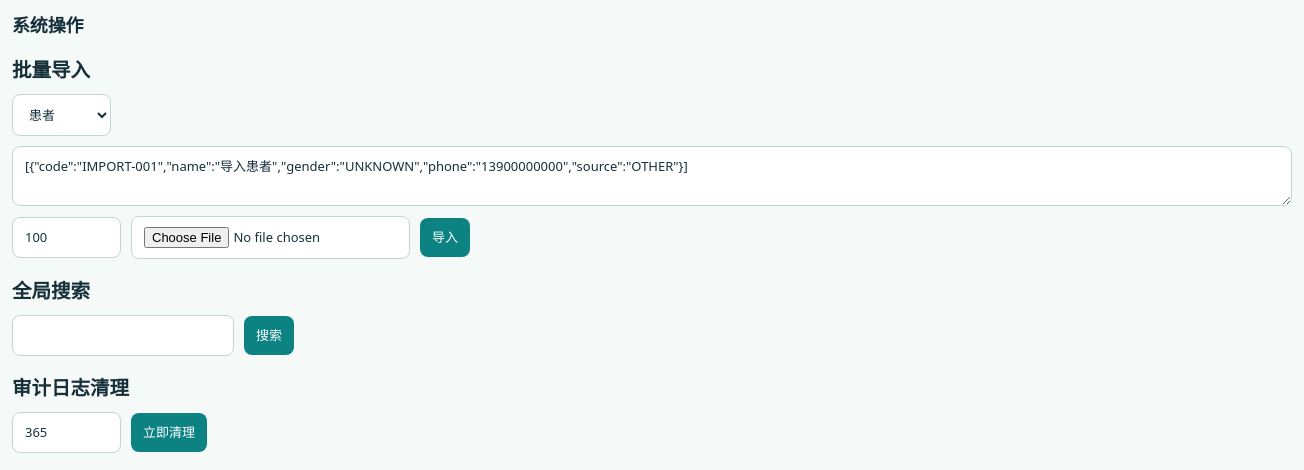
Test: SystemOperationsPage › validates the audit retention window and reports cleanup failures
Replace the text in the number field named "日志保留天数" with "10". click: x=66, y=433
box: left=12, top=412, right=121, bottom=453
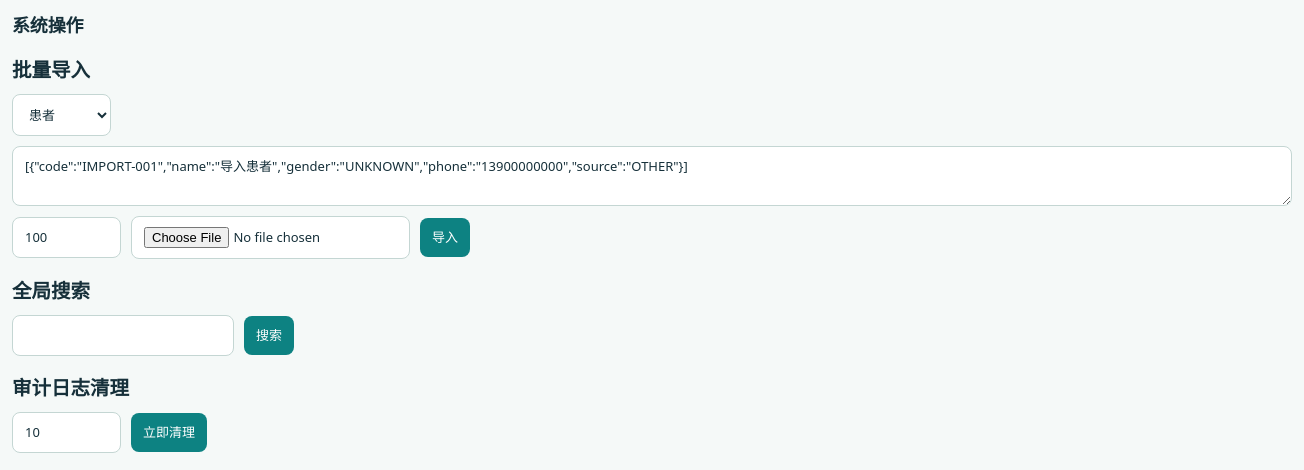
Click the button "立即清理". click: x=169, y=433
box: left=131, top=413, right=207, bottom=452
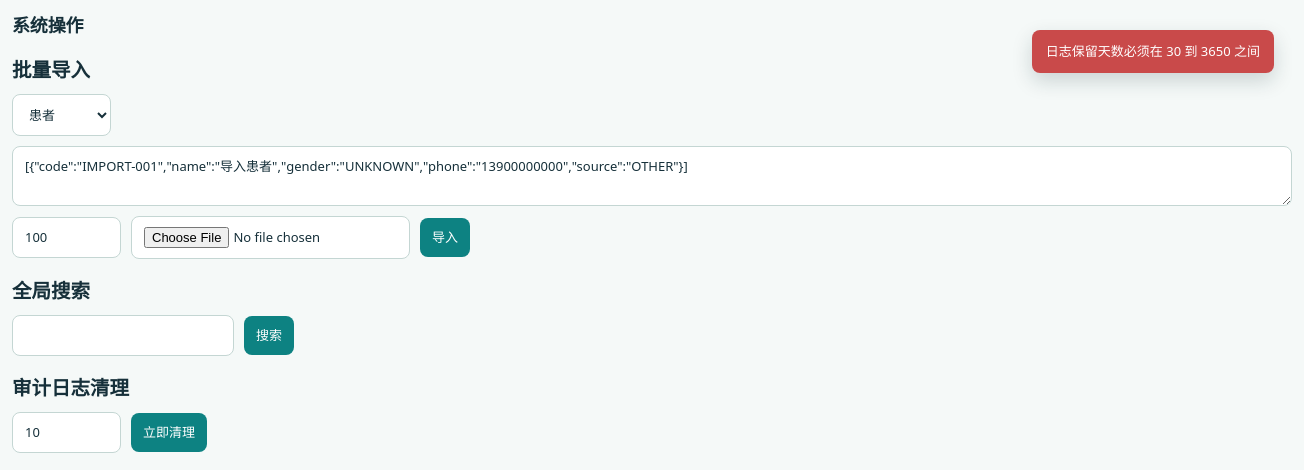
Result: the text "日志保留天数必须在 30 到 3650 之间" is shown at left=1032, top=30, right=1274, bottom=73
Replace the text in the number field named "日志保留天数" with "30". click: x=66, y=433
box: left=12, top=412, right=121, bottom=453
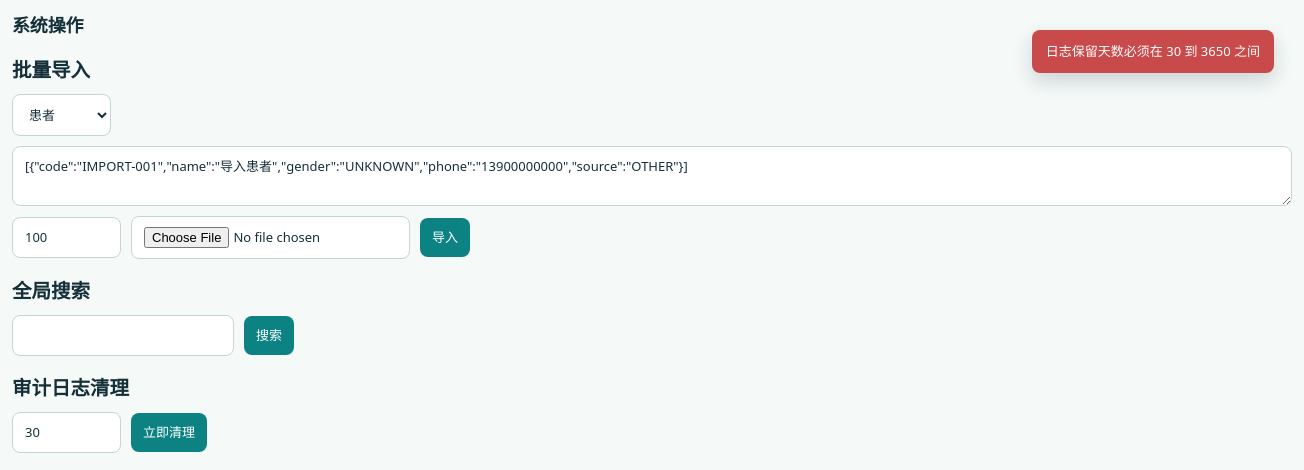
Click the button "立即清理". click: x=169, y=433
box: left=131, top=413, right=207, bottom=452
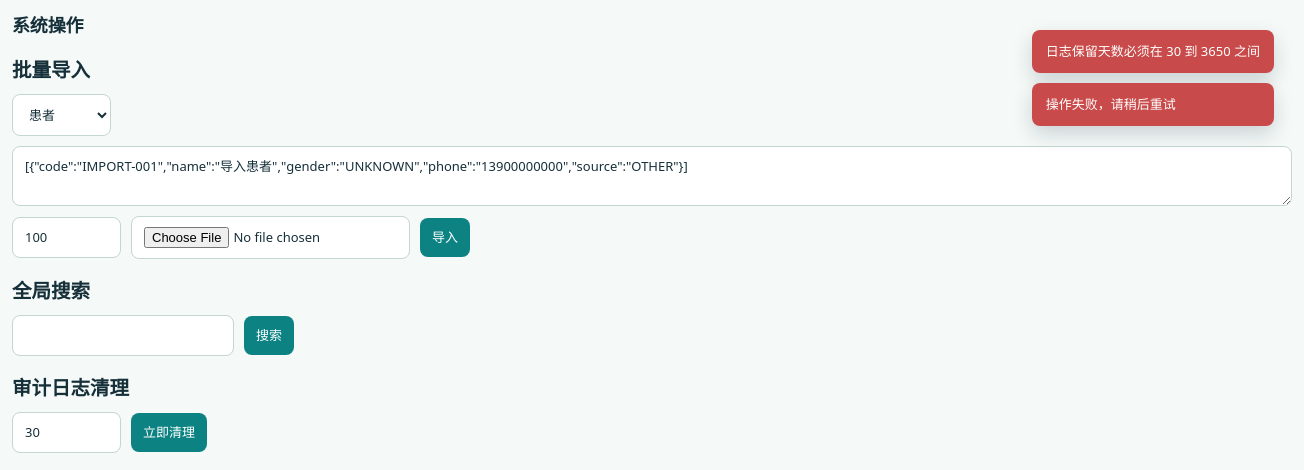
Result: the text "操作失败，请稍后重试" is shown at left=1032, top=83, right=1274, bottom=126
